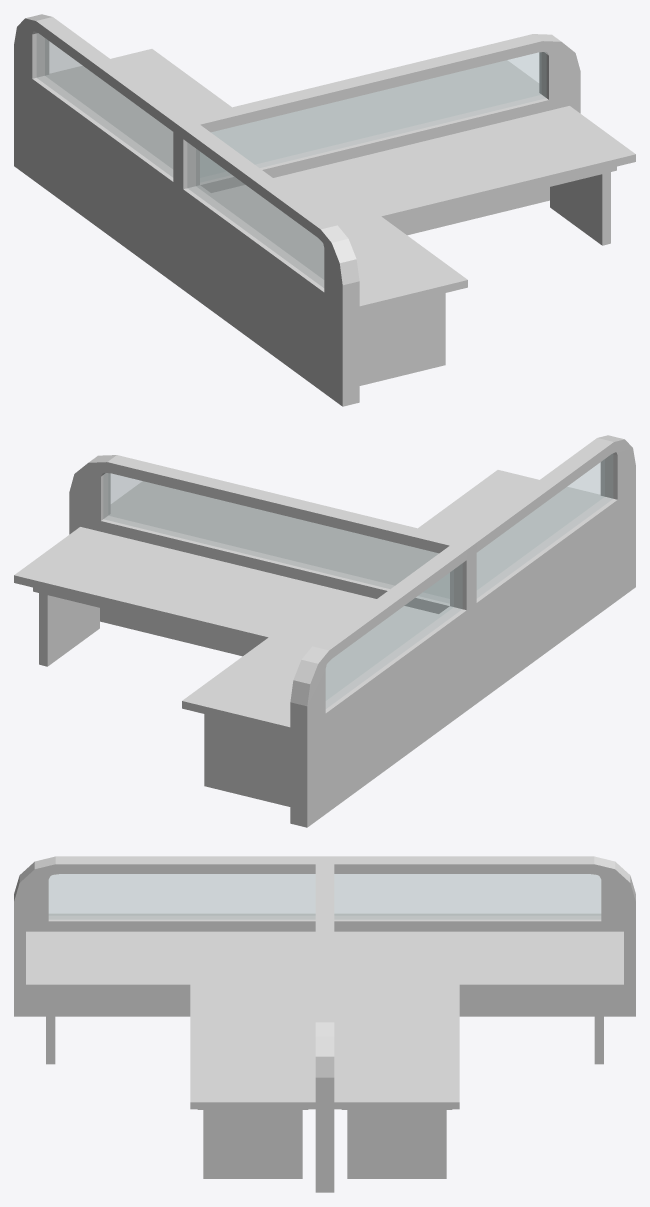
The model's file is deskDouble.fbx.
3 views of the same model, one above another, from view 1: azimuth 30°, elevation 25°; view 2: azimuth 150°, elevation 25°; view 3: azimuth 270°, elevation 25° (orthographic). The views are drawn at different scales.
Visible parts, largest first — view 1: Desk_Double; view 2: Desk_Double; view 3: Desk_Double.
Boxes of the visible parts, x1,y1,x2,y2 form: Desk_Double: (14,14,635,406); Desk_Double: (14,435,635,827); Desk_Double: (14,856,635,1192).
Size of the model in its own units: 718 by 278 by 1028.
